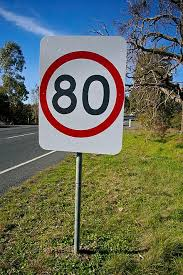Speed_limit_80km: (38, 52, 124, 137)
